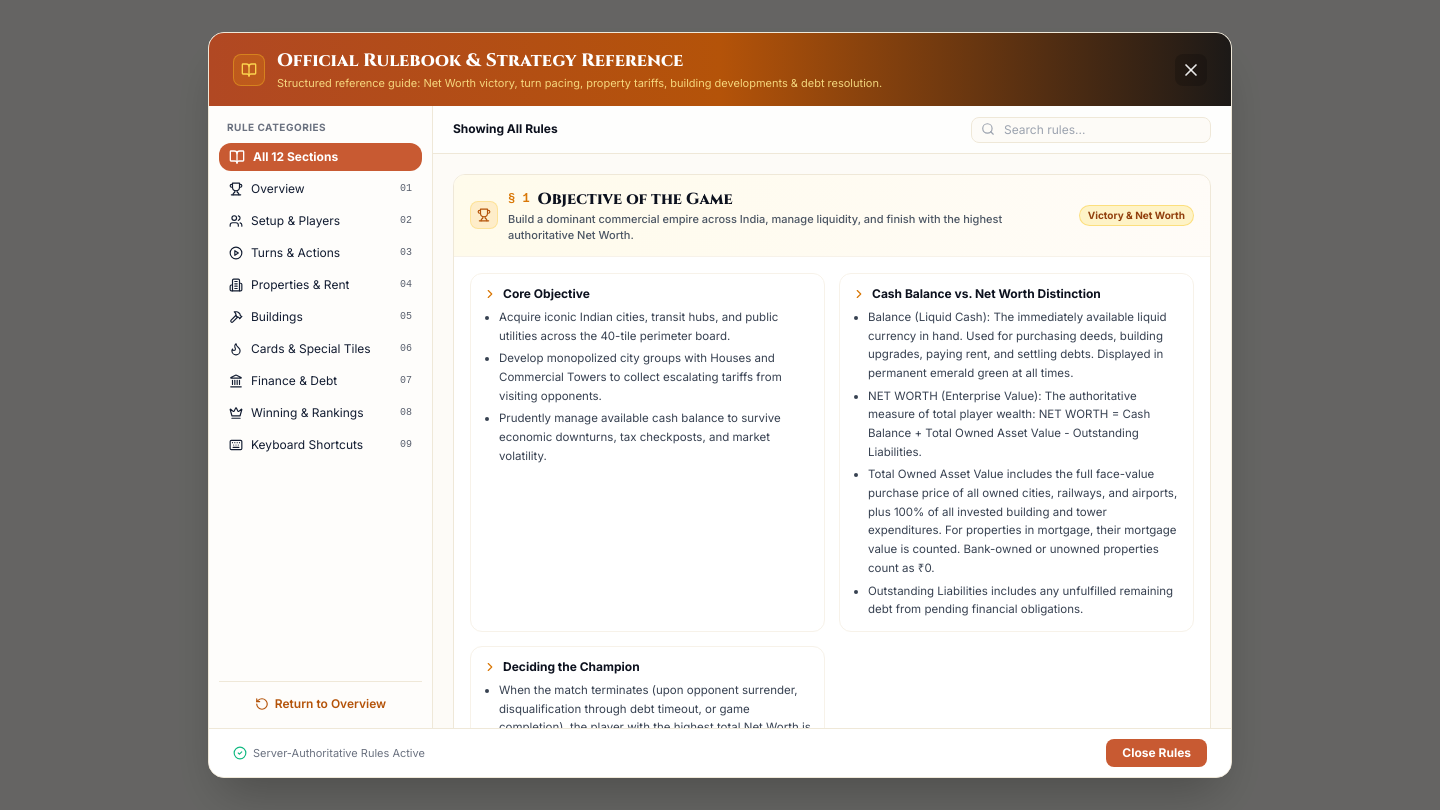
Test: In-Game Rules Guide & RulesModal (?) Requirements › Requirement 3.C: RulesModal opens, filters sections, and closes cleanly without side effects
This screenshot has width=1440, height=810.
Later steps or results of the test are not shown.
Expected: the heading "Official Rulebook & Strategy Reference" is shown, [277, 48, 683, 73]
Expected: the heading "Objective of the Game" is shown, [538, 187, 733, 211]
// Search input filters content
Type "Festival Travel" into the field with placeholder "Search rules...".
click(1091, 130); type("Festival Travel")  # box [971, 117, 1211, 143]
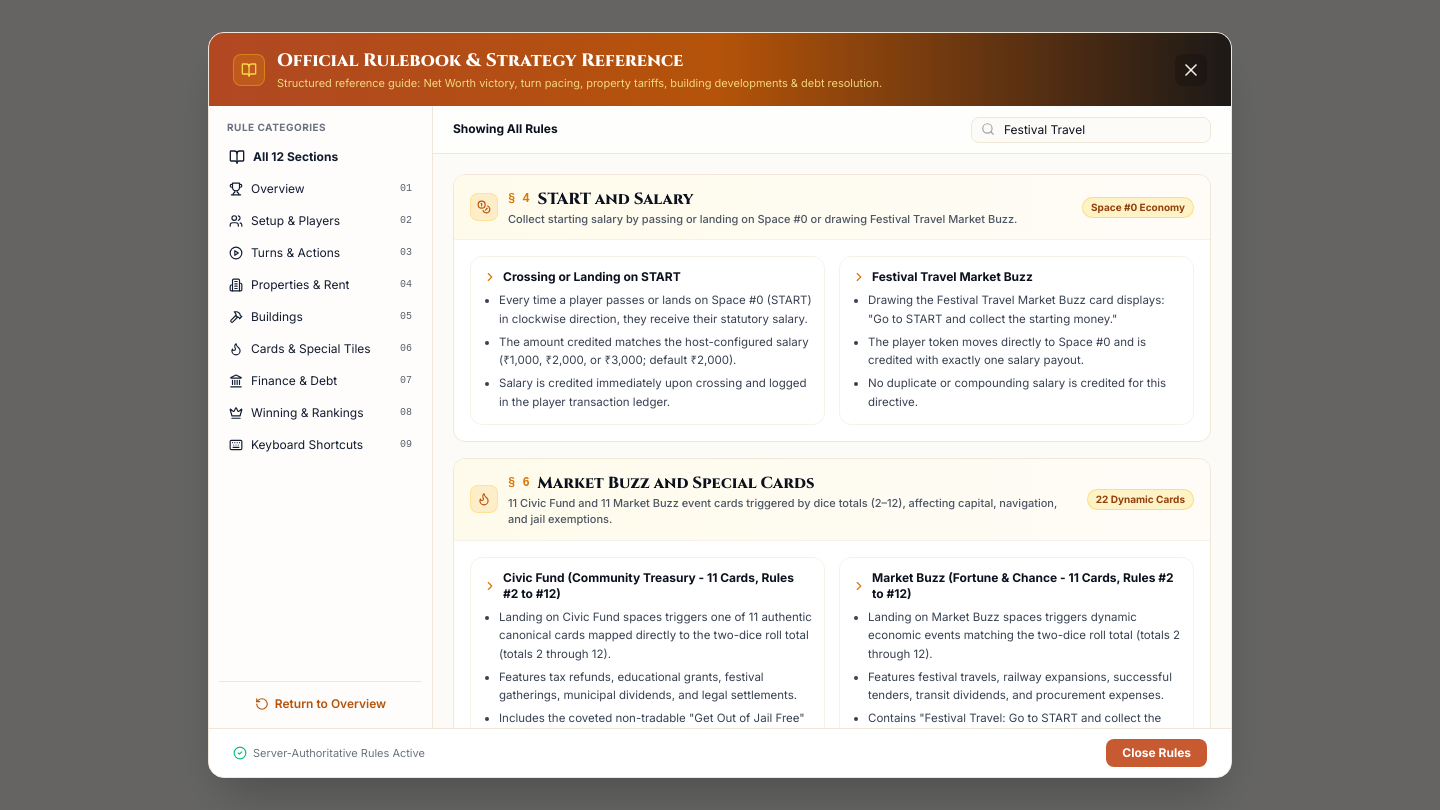
Expected: the button named "Close Rules" is shown, [1175, 54, 1207, 86]
Expected: the heading "START and Salary" is shown, [538, 187, 693, 211]
